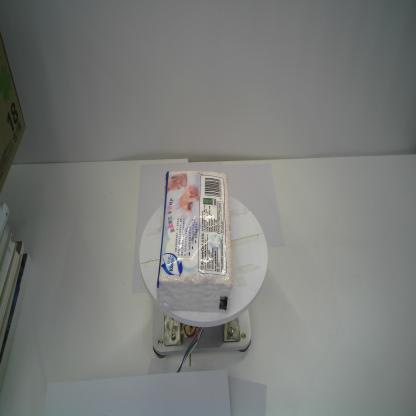Tissue: (154, 167, 234, 317)
